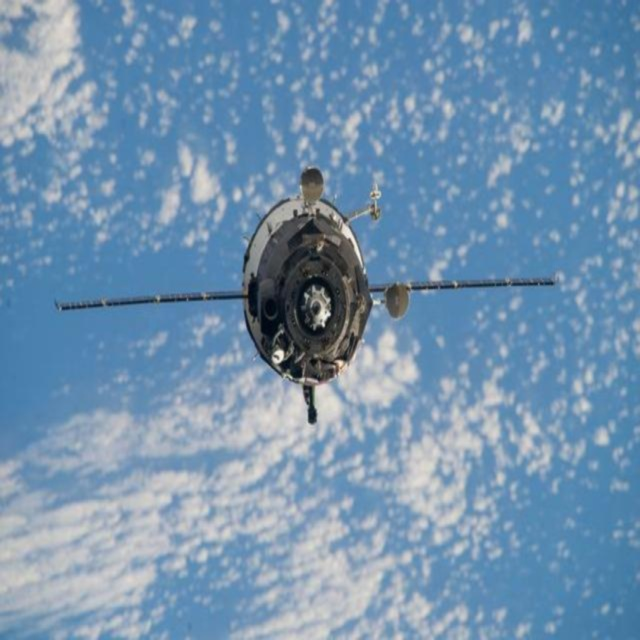medium_debris: (41, 166, 567, 426)
